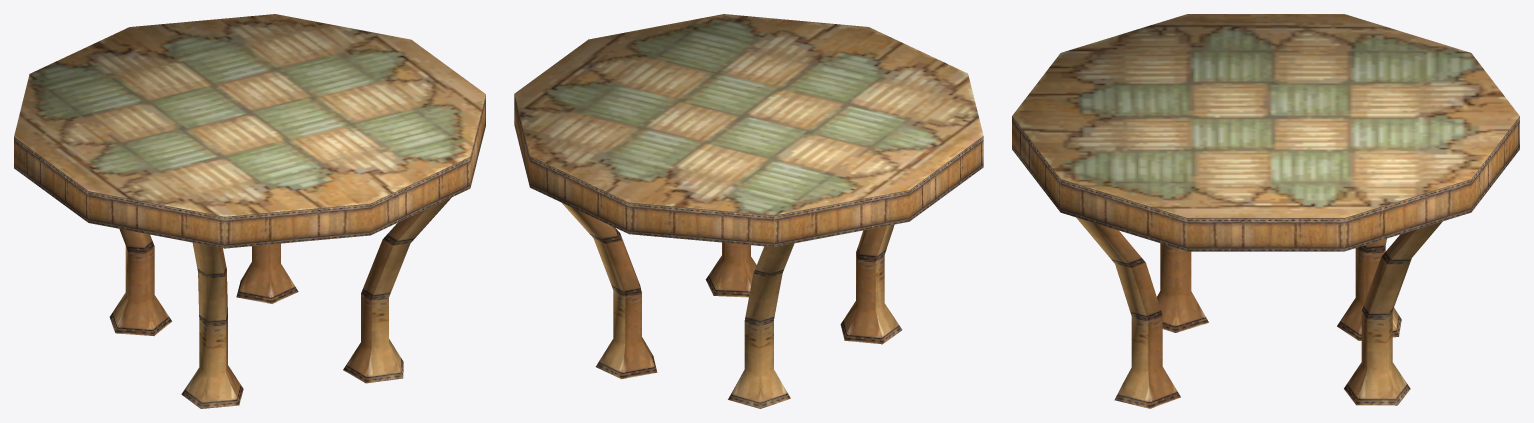
The picture shows the model from 3 angles, left to right: view 1: azimuth 30°, elevation 25°; view 2: azimuth 150°, elevation 25°; view 3: azimuth 270°, elevation 25°; orthographic projection. The views are drawn at different scales.
Visible parts, largest first — view 1: geom_node_0; view 2: geom_node_0; view 3: geom_node_0.
Part boxes in pixels (x1=…): geom_node_0: x1=14, y1=14, x2=485, y2=408; geom_node_0: x1=514, y1=14, x2=983, y2=408; geom_node_0: x1=1012, y1=14, x2=1519, y2=408.
Bounding box in the file's own units: 2.36 × 1.31 × 2.48.
1 material, 1 textured.
